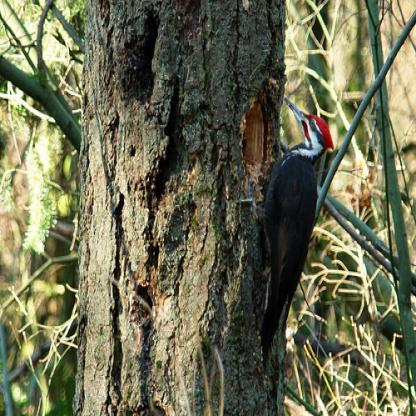bird: (235, 96, 334, 366)
